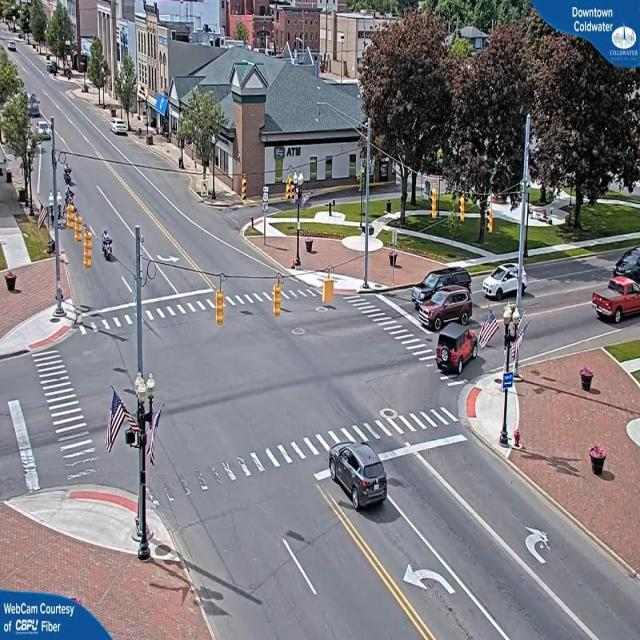car: (330, 444, 391, 511), (590, 276, 640, 325), (434, 326, 476, 376), (422, 292, 472, 328), (412, 268, 470, 295), (484, 264, 523, 300), (614, 248, 640, 283), (112, 120, 129, 136), (10, 44, 20, 54)
motorbike: (102, 231, 116, 262)
